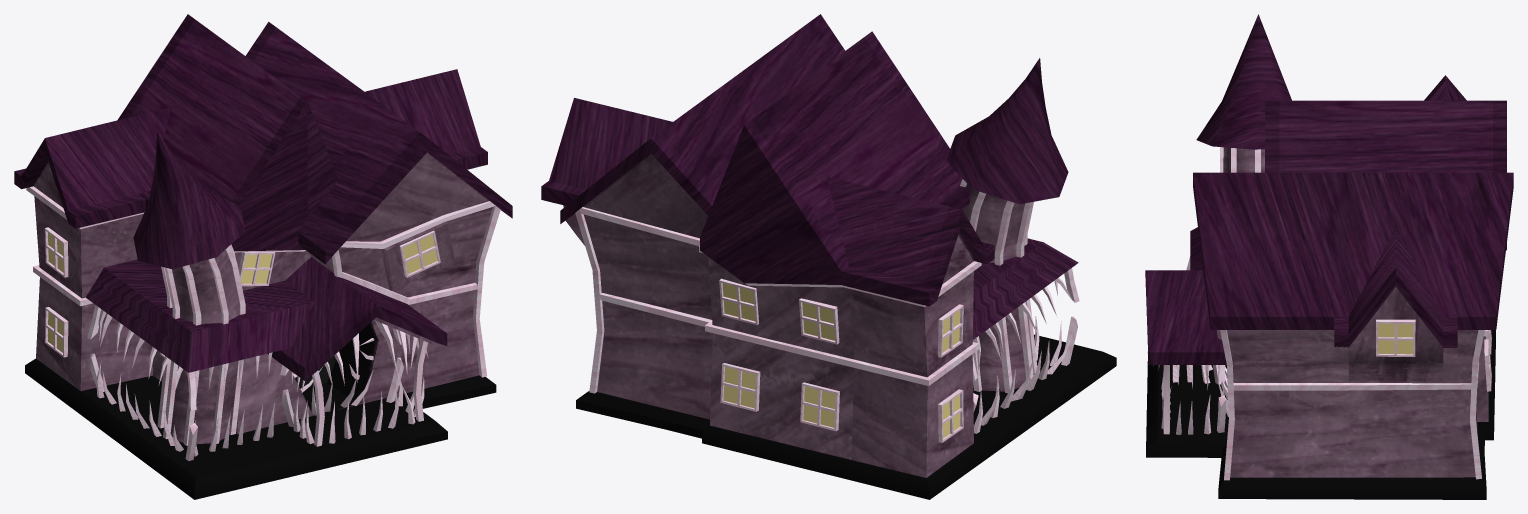
File: spooky_monster_pink_palace.glb
3 views of the same model, side by side, from view 1: azimuth 30°, elevation 25°; view 2: azimuth 150°, elevation 25°; view 3: azimuth 270°, elevation 25° (orthographic). The views are drawn at different scales.
Parts seen in each view (by area): view 1: _01 - Default_0; view 2: _01 - Default_0; view 3: _01 - Default_0.
Boxes of the visible parts, bbox=[...] form: _01 - Default_0: bbox=[14, 14, 512, 499]; _01 - Default_0: bbox=[541, 14, 1116, 499]; _01 - Default_0: bbox=[1145, 14, 1513, 499].
Bounding box in the file's own units: 19.05 × 15.25 × 15.53.
1 material, 1 textured.
